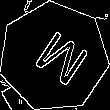M_SW: (21, 23, 87, 90)
